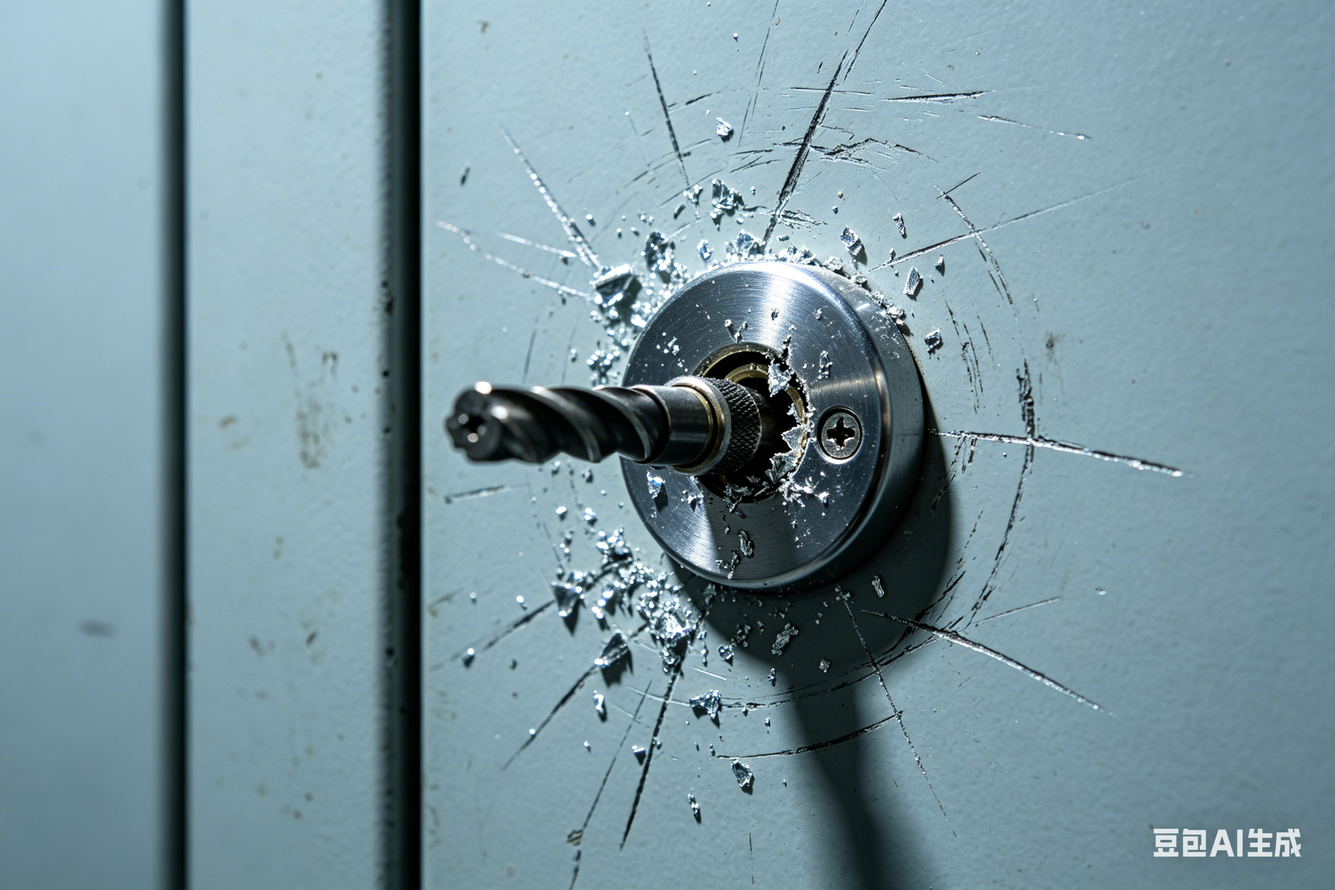BadLock: (690, 334, 828, 504)
